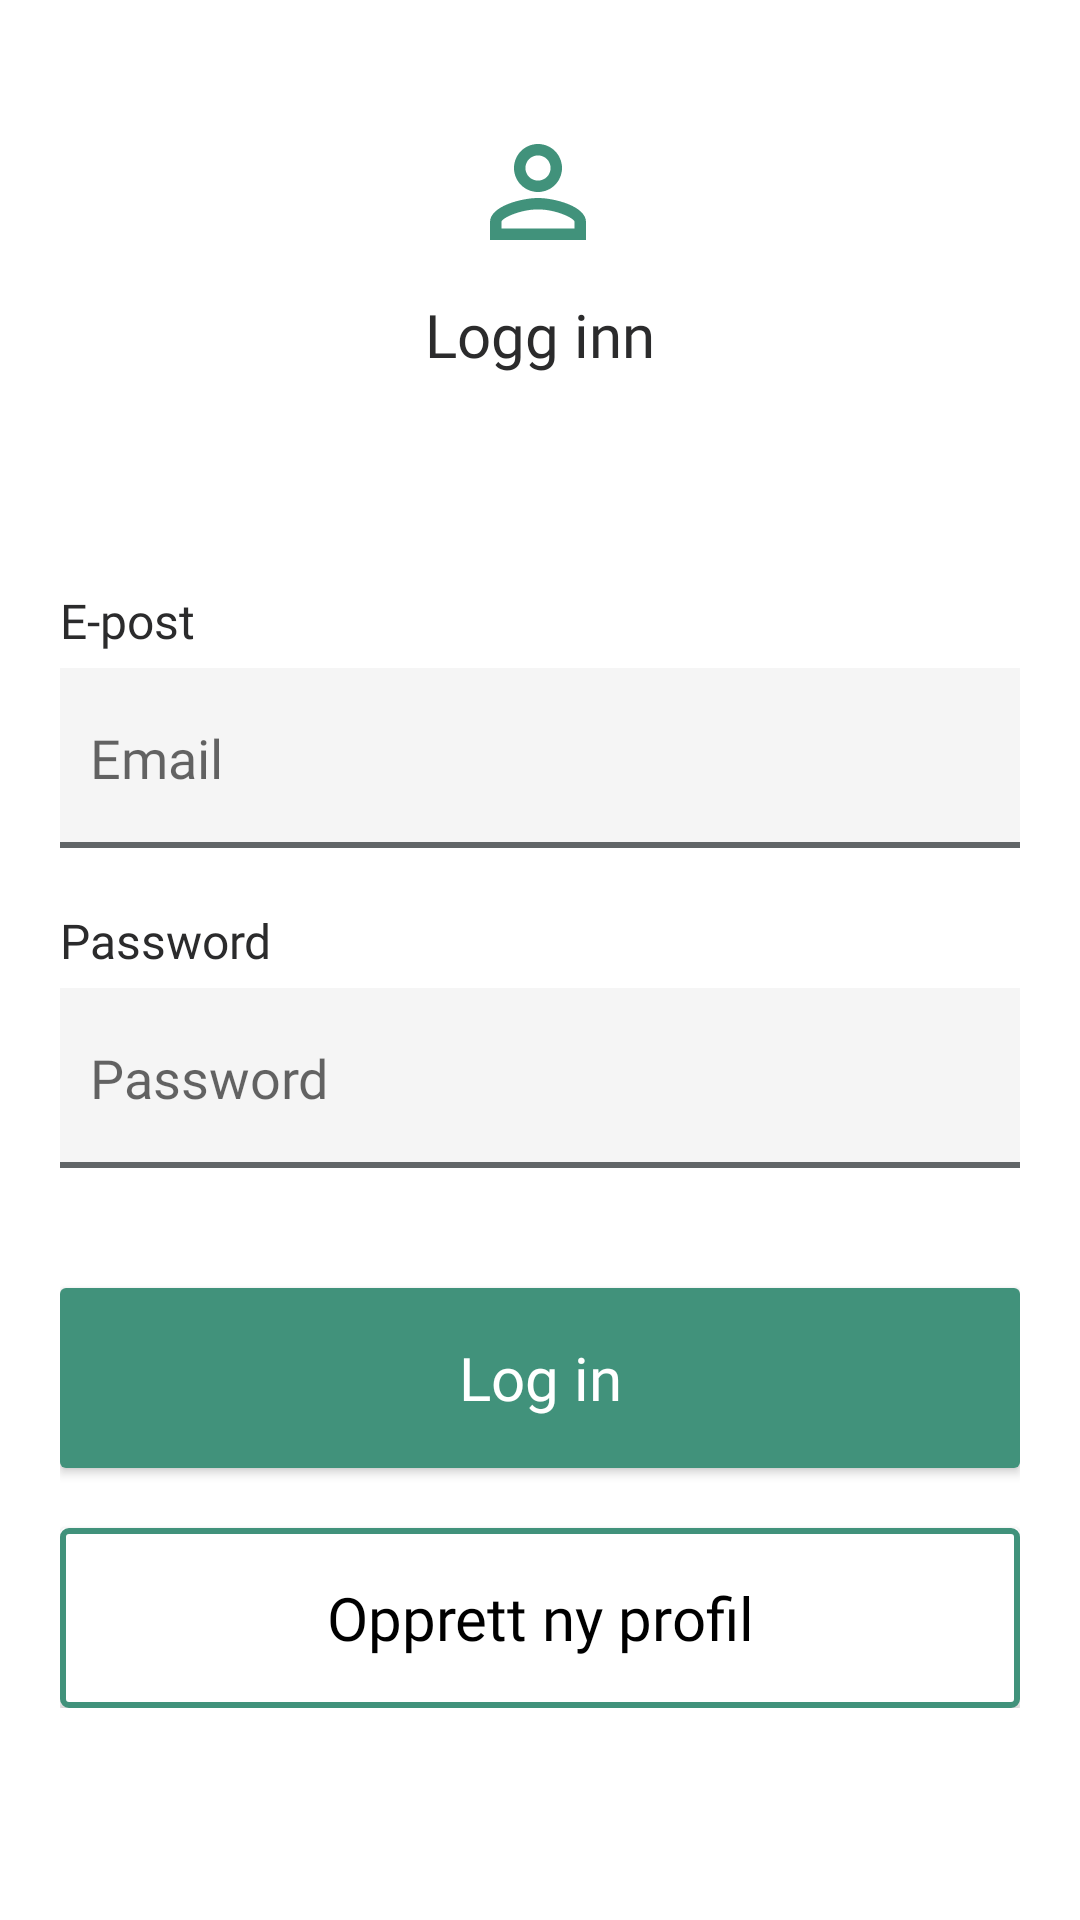

Point at icon controls on the screen. Image size 1080w x 1920h, points as point (x, y).
profile image: point (538, 192)
